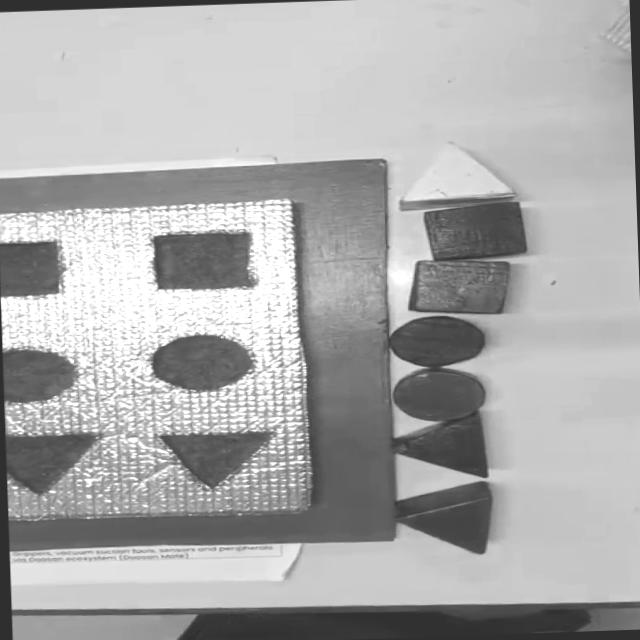bcircle: (388, 314, 486, 369)
bcube: (422, 200, 527, 262)
btriangle: (394, 414, 487, 479)
mtcircle: (149, 331, 254, 391), (4, 346, 80, 404)
mtcube: (152, 230, 256, 293), (0, 240, 63, 298)
mttriangle: (157, 428, 272, 492), (5, 431, 104, 496)
rcircle: (390, 367, 486, 422)
rcube: (407, 256, 512, 316)
rtriangle: (394, 480, 494, 556)
wb: (0, 198, 315, 522)
ytriangle: (397, 140, 515, 210)
